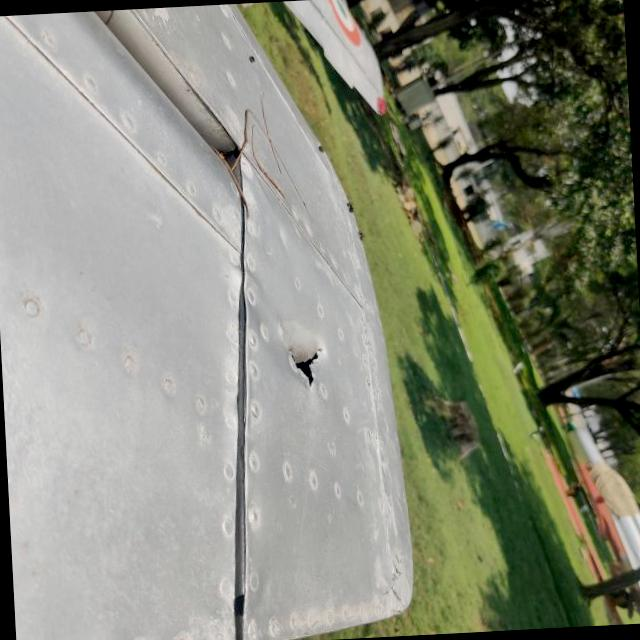crack: (310, 293, 406, 377)
